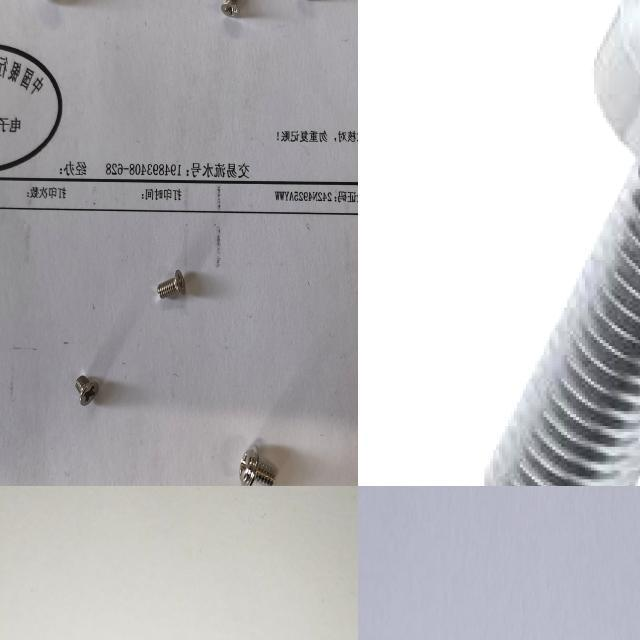Screw: (483, 0, 640, 486), (237, 441, 276, 486), (156, 268, 188, 302), (74, 372, 100, 408), (220, 0, 242, 22)
